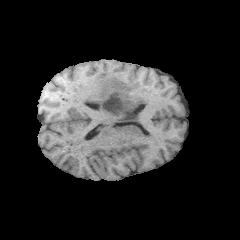glioma: (98, 73, 129, 117)
